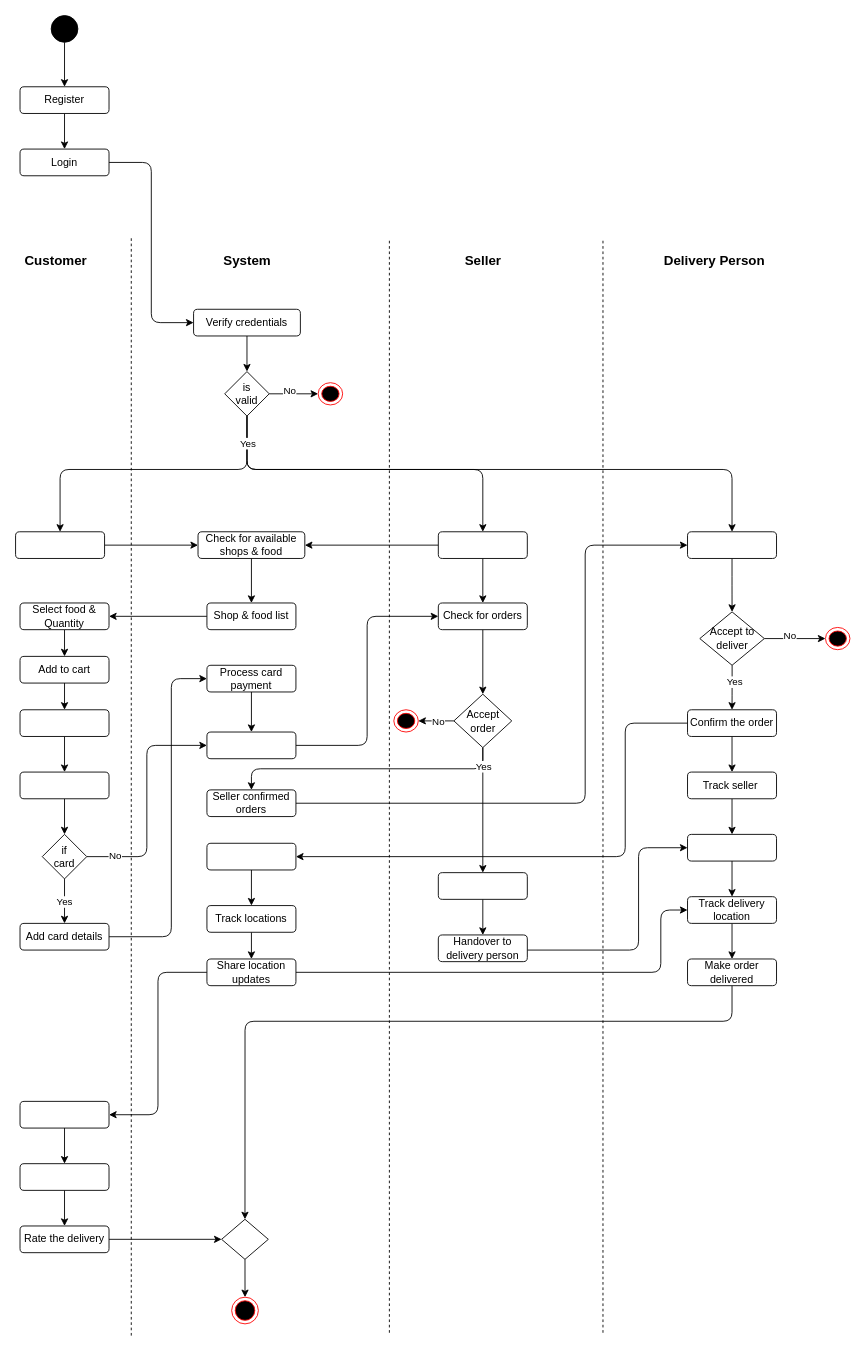
Some shapes in this 866 by 1353 pixel diagram are drawn without their labels. Here are the shapes that lost their labels. From the top down, the centre of each, then its label:
At [60,544]: "Search for shops".
At [482,544]: "Food listing".
At [732,544]: "View nearby orders".
At [64,722]: "Choose payment".
At [251,745]: "Request for order".
At [64,785]: "Place order".
At [251,856]: "Confirm order".
At [732,847]: "Collect food from seller".
At [482,885]: "Prepare food".
At [64,1114]: "Track delivery".
At [64,1176]: "Recieve order".
